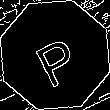P_NW: (27, 24, 83, 86)
